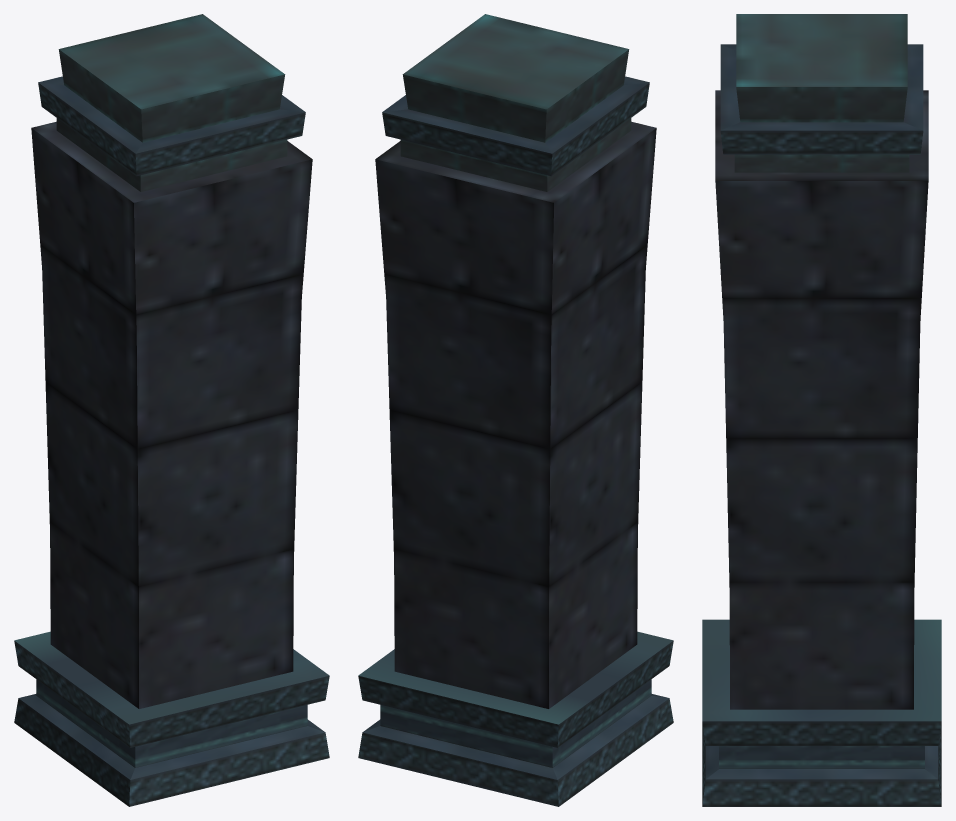
File: Column_01.fbx
The picture shows the model from 3 angles, left to right: view 1: azimuth 30°, elevation 25°; view 2: azimuth 150°, elevation 25°; view 3: azimuth 270°, elevation 25°; orthographic projection. The views are drawn at different scales.
Parts seen in each view (by area): view 1: Column_01; view 2: Column_01; view 3: Column_01.
Boxes of the visible parts, <box> form: Column_01: <box>14,14,329,806</box>; Column_01: <box>358,14,673,806</box>; Column_01: <box>702,14,941,806</box>.
Bounding box in the file's own units: 84.33 × 273 × 83.73.
